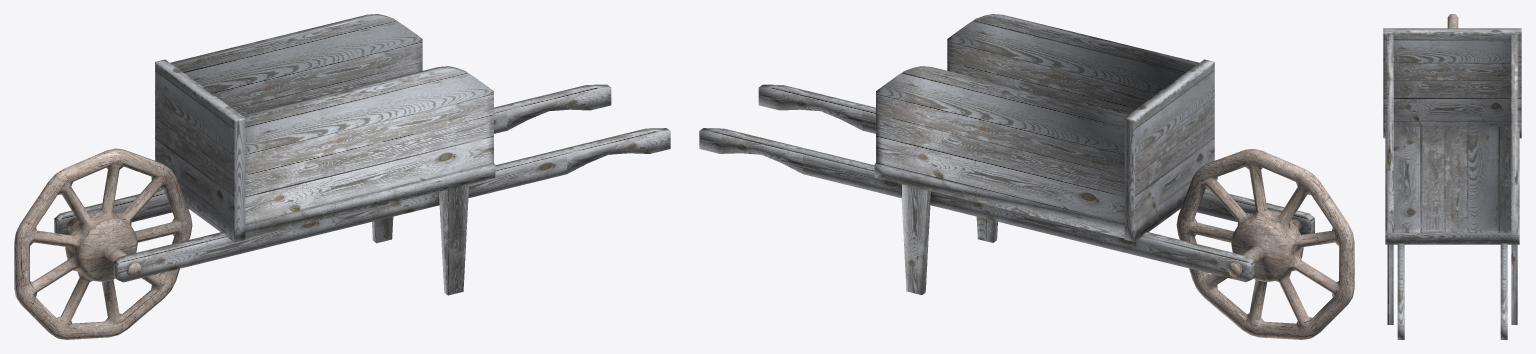
File: wheelbarrow.obj
The picture shows the model from 3 angles, left to right: view 1: azimuth 30°, elevation 25°; view 2: azimuth 150°, elevation 25°; view 3: azimuth 270°, elevation 25°; orthographic projection. The views are drawn at different scales.
Visible parts, largest first — view 1: wheelbarrow; view 2: wheelbarrow; view 3: wheelbarrow.
Boxes of the visible parts, <box> form: wheelbarrow: <box>14,14,670,339</box>; wheelbarrow: <box>699,14,1354,339</box>; wheelbarrow: <box>1383,14,1521,339</box>.
Size of the model in its own units: 295 by 104 by 65.58.
